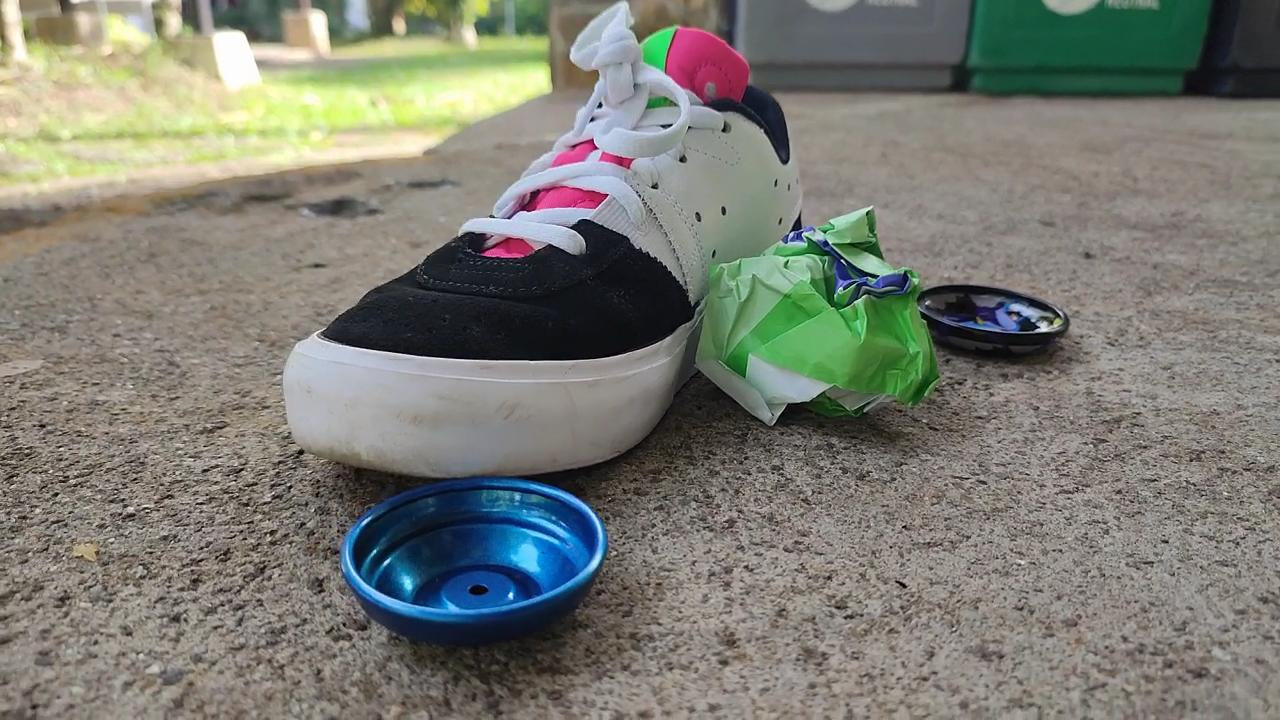Paper: (688, 187, 949, 454)
